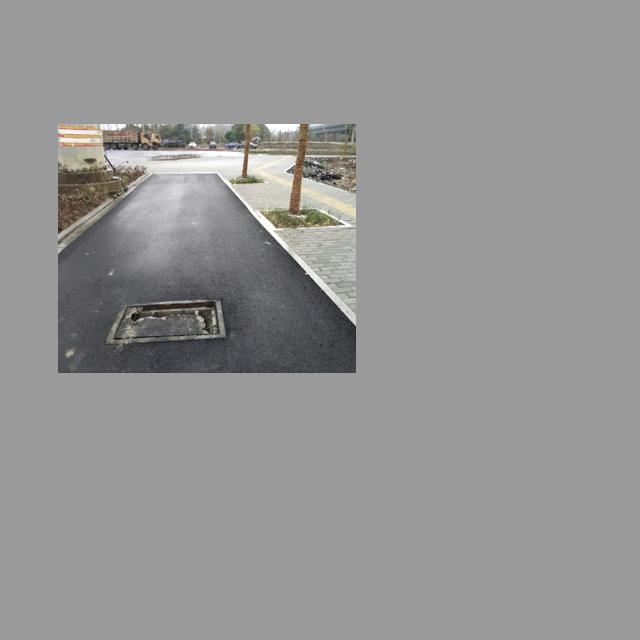broke: (105, 298, 227, 344)
